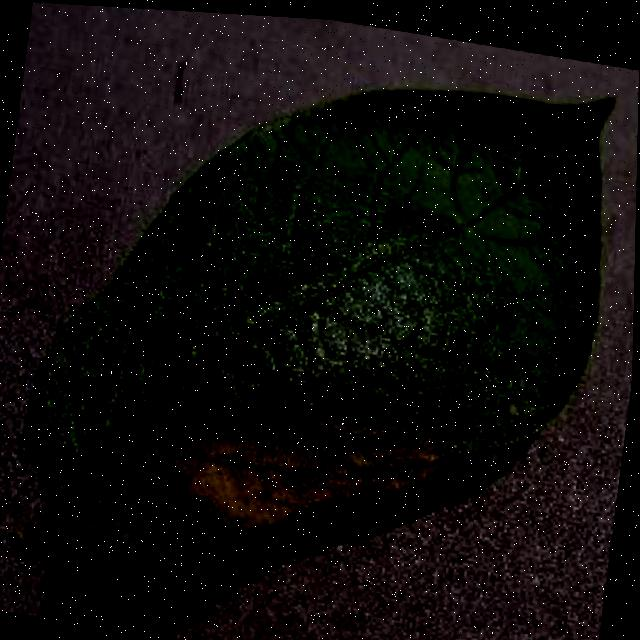Late_blight: (125, 334, 503, 583)
